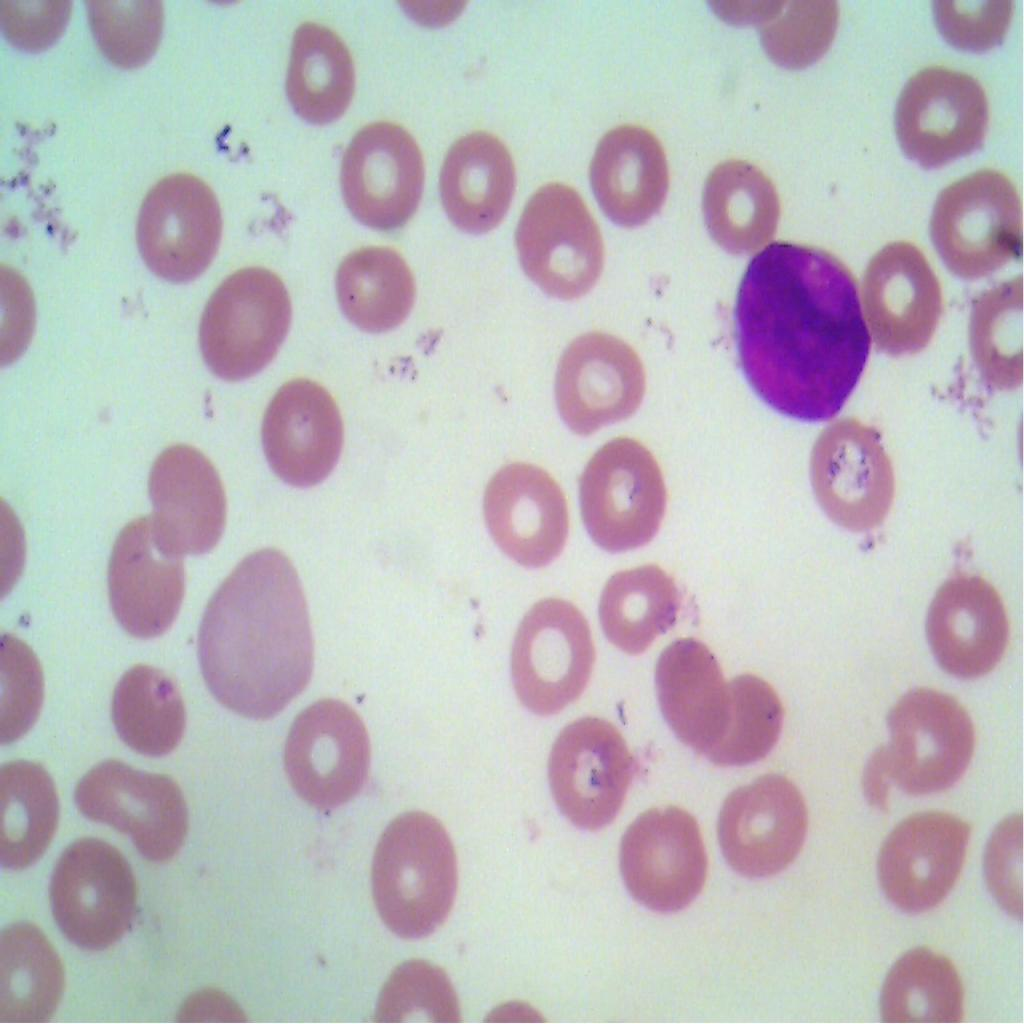Eritrosit: (195, 548, 315, 726), (471, 451, 575, 589), (609, 790, 709, 932), (76, 748, 191, 871), (536, 712, 641, 842), (891, 56, 998, 180), (916, 152, 1023, 275), (543, 307, 646, 434), (368, 804, 462, 941), (193, 263, 299, 384), (715, 768, 813, 894), (503, 585, 595, 718), (684, 138, 778, 268), (575, 424, 669, 554), (38, 835, 146, 947), (855, 225, 942, 362), (259, 364, 344, 503), (283, 691, 371, 824), (518, 169, 603, 305), (143, 434, 234, 561), (873, 694, 981, 801), (926, 554, 1016, 680), (124, 175, 226, 284), (586, 117, 678, 237), (108, 518, 194, 644), (109, 655, 203, 770), (593, 552, 691, 658), (340, 114, 426, 234), (271, 5, 354, 128), (815, 410, 894, 538), (438, 124, 515, 250), (654, 628, 730, 755), (876, 806, 974, 902), (328, 246, 421, 344), (875, 931, 971, 1023), (708, 666, 783, 780), (958, 268, 1023, 394), (0, 749, 61, 871), (4, 914, 70, 1023)
Limfoblast: (733, 239, 870, 432)
